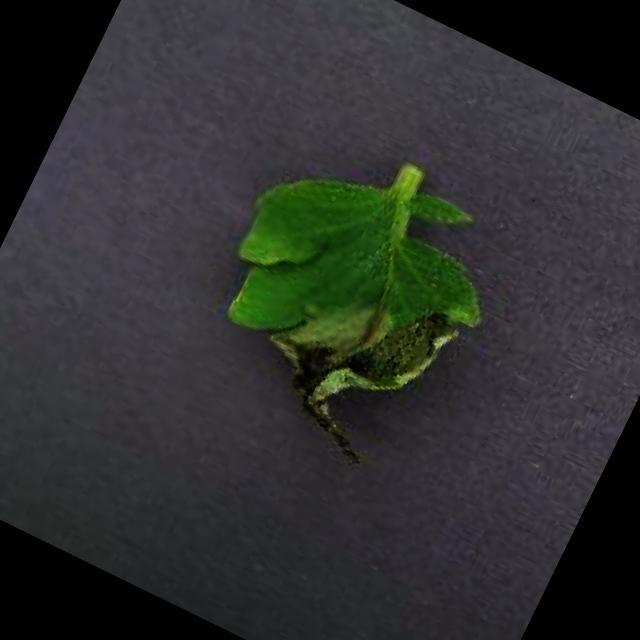Tomato late blight leaf: (170, 124, 526, 490)
